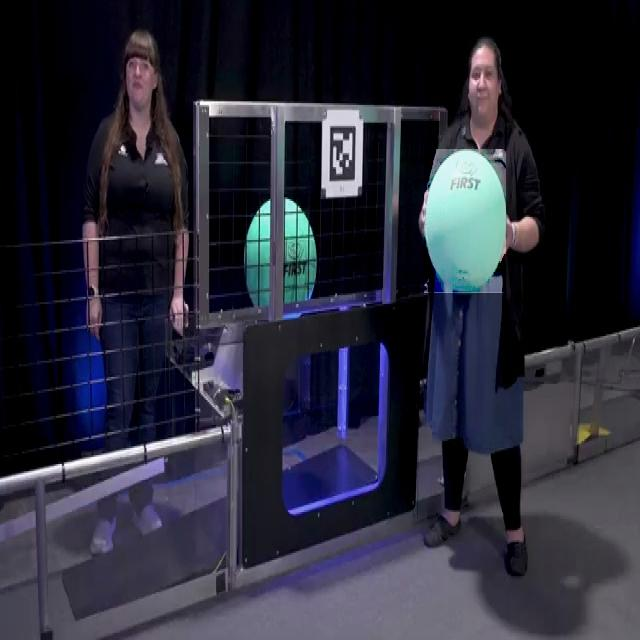Algae: (424, 150, 506, 294), (242, 194, 316, 318)
